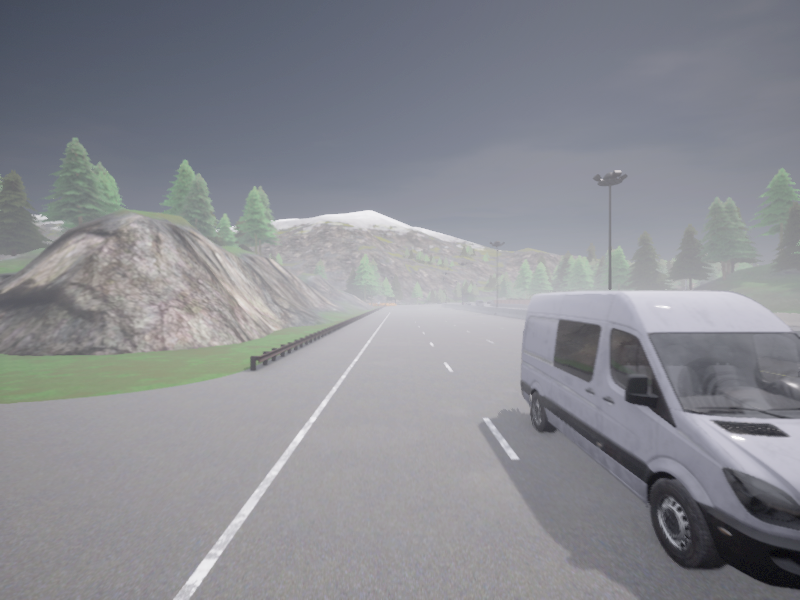vehicle: (520, 290, 799, 589), (475, 300, 482, 305), (488, 301, 493, 303), (464, 303, 470, 304), (463, 302, 465, 304)
